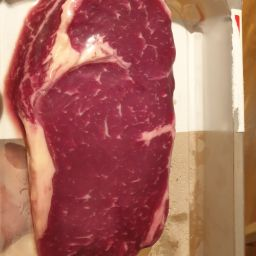Beef: (4, 38, 177, 206), (7, 2, 181, 169), (18, 141, 176, 256)
